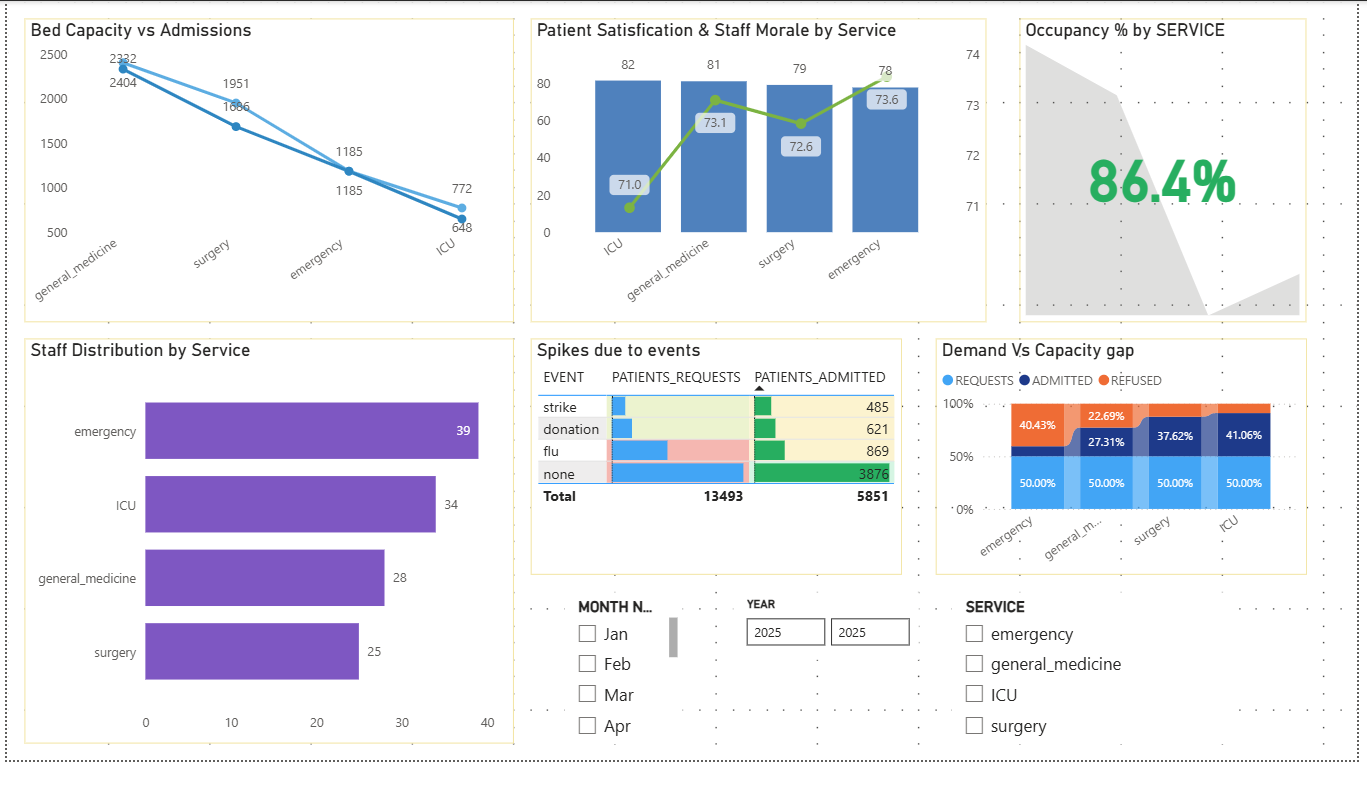

Layout of this report page (visuals, bound fields, positions):
{"tool":"powerbi","page":{"name":"Hospital Operations  & Capacity Insights","canvas":[1280,720],"ordinal":1},"visuals":[{"type":"lineChart","title":"Bed Capacity vs Admissions","fields":{"Y":["Date Table.Avgbeds","services_weekly.Total admitted"],"Category":["services_weekly.SERVICE"]},"box":[16,16,464,288],"z":0},{"type":"barChart","title":"Staff Distribution by Service","fields":{"Category":["Patients.SERVICE","Patients.PATIENTS' ID"],"Y":["Count(staff_schedule.STAFF ID)"]},"box":[16,320,464,384],"z":1000},{"type":"hundredPercentStackedColumnChart","title":"Demand Vs Capacity gap","fields":{"Y":["Sum(services_weekly.PATIENTS_REQUESTS)","Sum(services_weekly.PATIENTS_ADMITTED)","Sum(services_weekly.PATIENTS_REFUSED)"],"Category":["services_weekly.SERVICE"]},"box":[880,320,352,224],"z":2000},{"type":"tableEx","title":"Spikes due to events","fields":{"Values":["services_weekly.EVENT","Sum(services_weekly.PATIENTS_REQUESTS)","Sum(services_weekly.PATIENTS_ADMITTED)"]},"box":[496,320,352,224],"z":3000},{"type":"slicer","fields":{"Values":["Date Table.MONTH NAME"]},"box":[528,560,112,144],"z":4000},{"type":"slicer","fields":{"Values":["Date Table.YEAR"]},"box":[688,560,176,64],"z":5000},{"type":"slicer","fields":{"Values":["Patients.SERVICE"]},"box":[896,560,272,144],"z":6000},{"type":"kpi","fields":{"Indicator":["Date Table.Occupancy %"],"TrendLine":["Patients.SERVICE"]},"box":[960,16,272,288],"z":7000},{"type":"lineClusteredColumnComboChart","title":"Patient Satisfication & Staff Morale  by Service","fields":{"Category":["Patients.SERVICE"],"Y":["Date Table.Avg Satisifaction"],"Y2":["Date Table.Avg staff morale"]},"box":[496,16,432,288],"z":8000}]}

Visuals, with their boxes on the page's 1280x720 design canvas (x1, y1, x2, y2). These are canvas units, not pixel positions in the 1367x807 screenshot, which may show the page scaled, cropped or inside an application window:
"Bed Capacity vs Admissions" lineChart: <bbox>16, 16, 480, 304</bbox>
"Staff Distribution by Service" barChart: <bbox>16, 320, 480, 704</bbox>
"Demand Vs Capacity gap" hundredPercentStackedColumnChart: <bbox>880, 320, 1232, 544</bbox>
"Spikes due to events" tableEx: <bbox>496, 320, 848, 544</bbox>
slicer - Date Table.MONTH NAME: <bbox>528, 560, 640, 704</bbox>
slicer - Date Table.YEAR: <bbox>688, 560, 864, 624</bbox>
slicer - Patients.SERVICE: <bbox>896, 560, 1168, 704</bbox>
kpi - Date Table.Occupancy % x Patients.SERVICE: <bbox>960, 16, 1232, 304</bbox>
"Patient Satisfication & Staff Morale  by Service" lineClusteredColumnComboChart: <bbox>496, 16, 928, 304</bbox>
